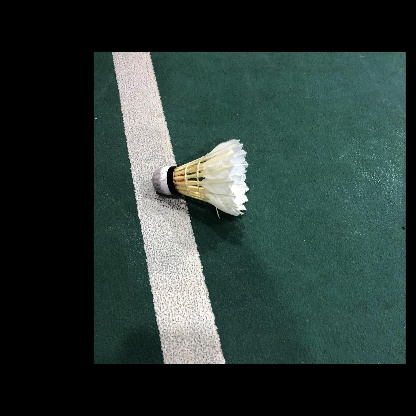ball_single: (152, 139, 249, 216)
